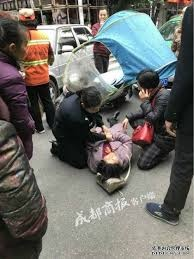falling: (84, 115, 135, 191)
